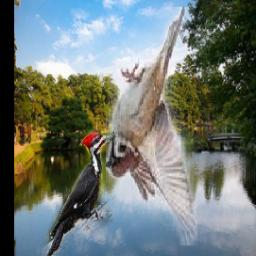Sparrow: (107, 7, 198, 246)
Woodpecker: (42, 131, 115, 256)
